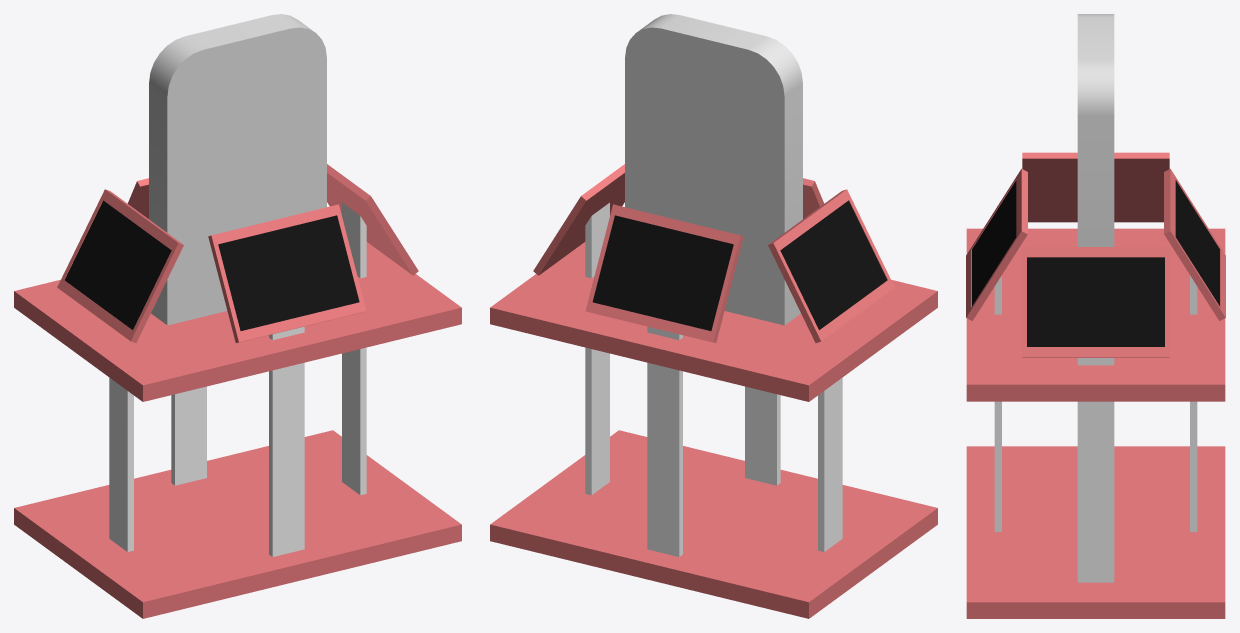
File: tab_display_4.fbx
3 renders of one model, left to right at view 1: azimuth 30°, elevation 25°; view 2: azimuth 150°, elevation 25°; view 3: azimuth 270°, elevation 25°, orthographic.
Visible parts, largest first — view 1: tab_display_4; view 2: tab_display_4; view 3: tab_display_4.
Part boxes in pixels (x1,y1,x2,y2): tab_display_4: [14, 14, 461, 618]; tab_display_4: [490, 14, 937, 618]; tab_display_4: [966, 14, 1225, 618].
Bounding box in the file's own units: 100 × 150 × 70.36.
3 materials, 2 textured.
